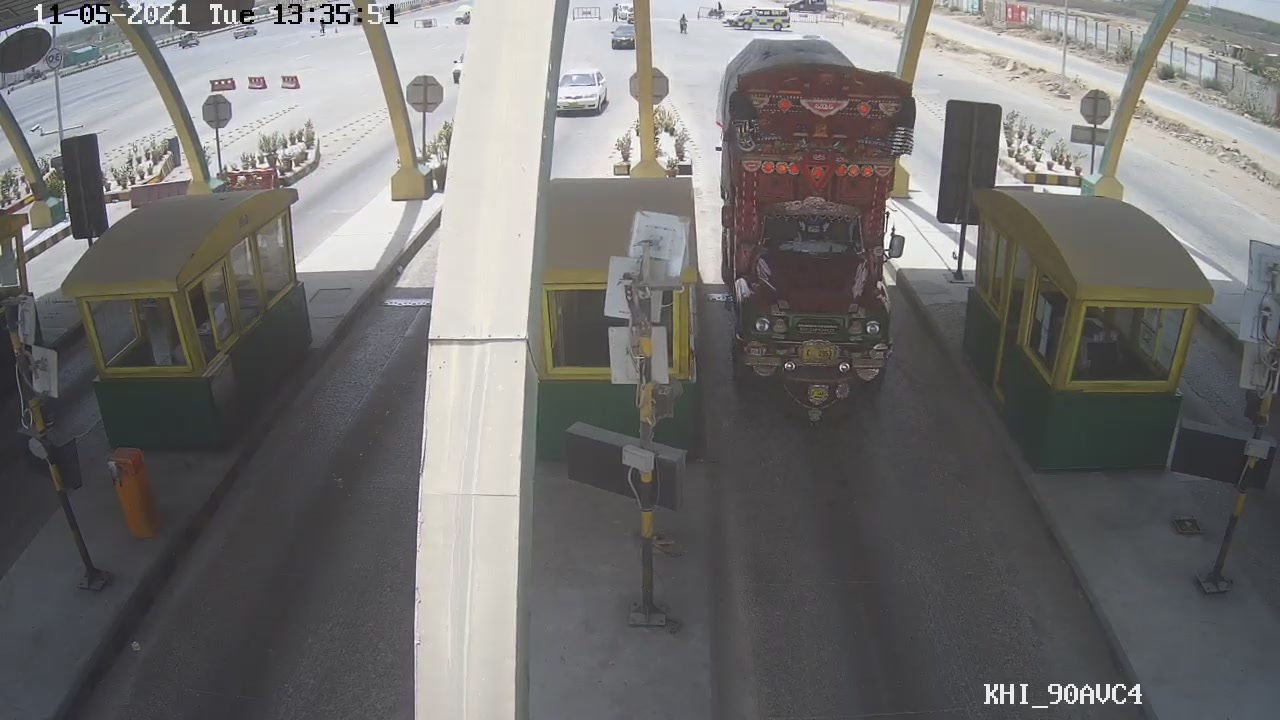F5: (703, 43, 934, 424)
